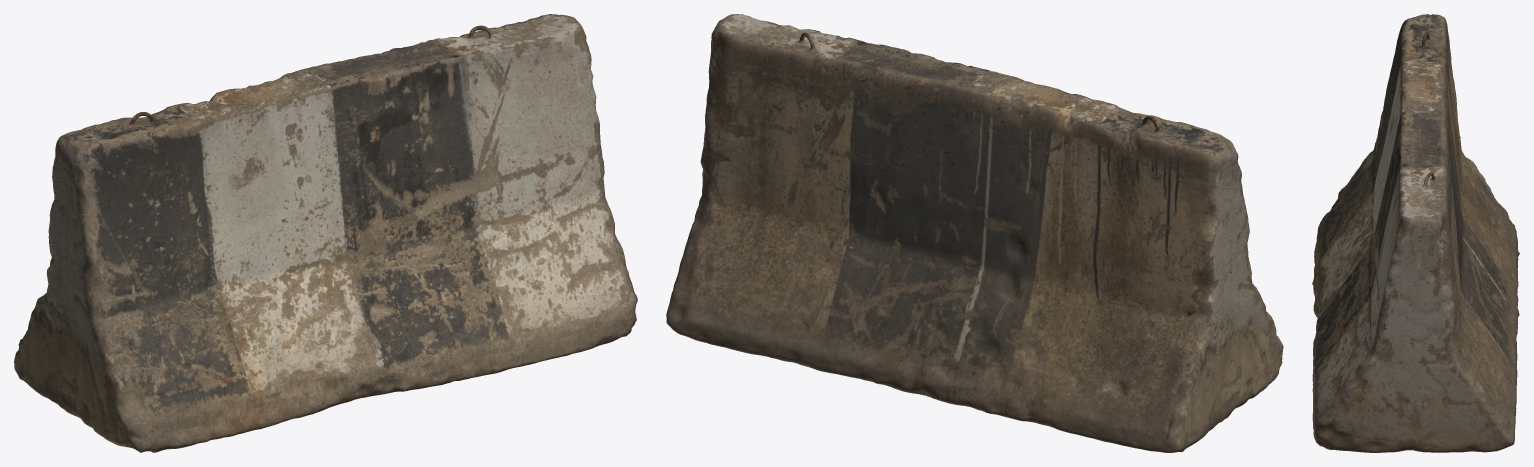
File: barrier.gltf
3 views of the same model, side by side, from view 1: azimuth 30°, elevation 25°; view 2: azimuth 150°, elevation 25°; view 3: azimuth 270°, elevation 25° (orthographic). The views are drawn at different scales.
Parts seen in each view (by area): view 1: concrete_road_barrier; view 2: concrete_road_barrier; view 3: concrete_road_barrier.
Part boxes in pixels (x1,y1,x2,y2): concrete_road_barrier: (14,14,637,452); concrete_road_barrier: (666,14,1283,452); concrete_road_barrier: (1312,14,1519,452).
Bounding box in the file's own units: 1.55 × 0.831 × 0.6387.
Materials: 1 (1 with a texture image).
